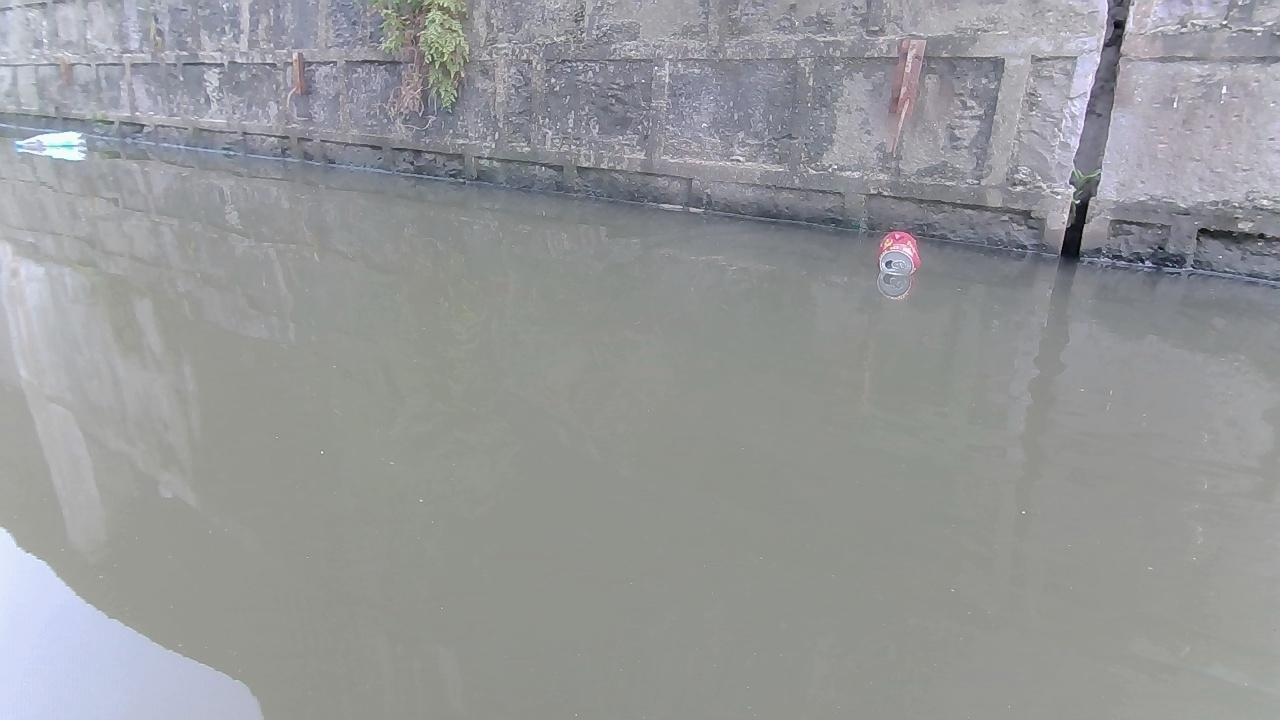Metal: (877, 231, 922, 276)
Plastic: (14, 131, 88, 150)
